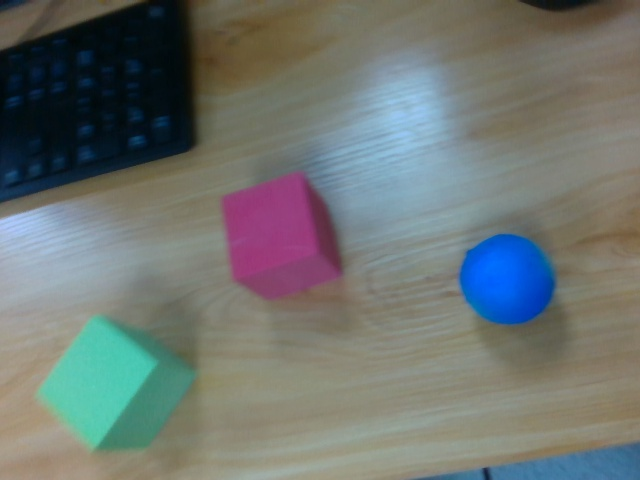blueball: (460, 234, 555, 326)
green: (35, 310, 194, 450)
red: (217, 171, 347, 292)
